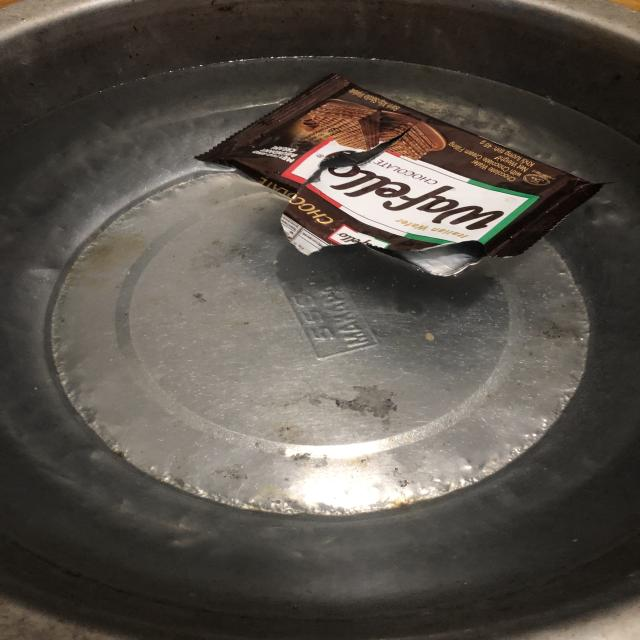Plastic Wrapper: (196, 74, 602, 277)
